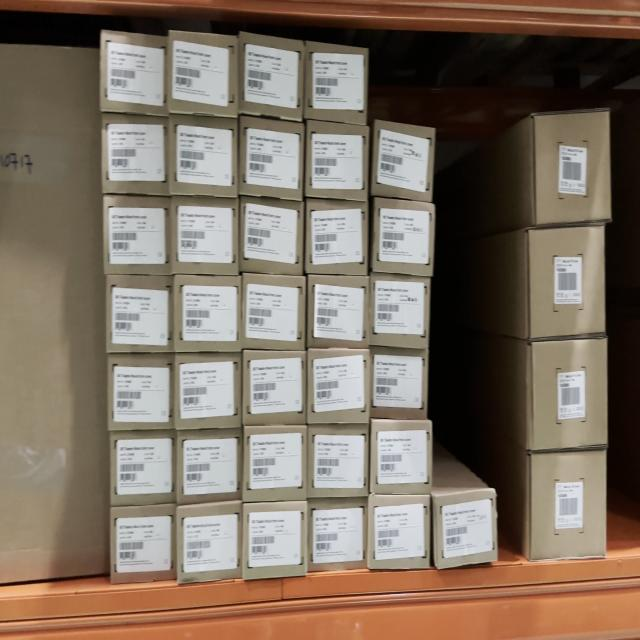box: (530, 227, 604, 336), (532, 451, 606, 557), (534, 116, 610, 219), (530, 343, 606, 445), (104, 197, 171, 274), (169, 118, 237, 193), (101, 37, 168, 109), (169, 38, 235, 111), (108, 278, 174, 351), (103, 120, 169, 192), (176, 275, 240, 348), (178, 353, 241, 427), (109, 356, 174, 426), (180, 504, 240, 579), (173, 202, 238, 271), (239, 125, 304, 192), (245, 427, 306, 498), (308, 425, 368, 497), (112, 511, 176, 578), (113, 434, 176, 502), (243, 277, 305, 346), (308, 127, 368, 198), (306, 49, 367, 118), (241, 204, 302, 273), (307, 202, 367, 272), (244, 352, 304, 422), (178, 432, 241, 498), (240, 42, 302, 109), (308, 278, 369, 345), (371, 426, 431, 494), (309, 352, 369, 420), (245, 506, 305, 574), (373, 129, 434, 195), (373, 204, 432, 272), (437, 492, 494, 562), (370, 498, 428, 565), (310, 502, 368, 569), (372, 350, 426, 419), (371, 280, 429, 344)
